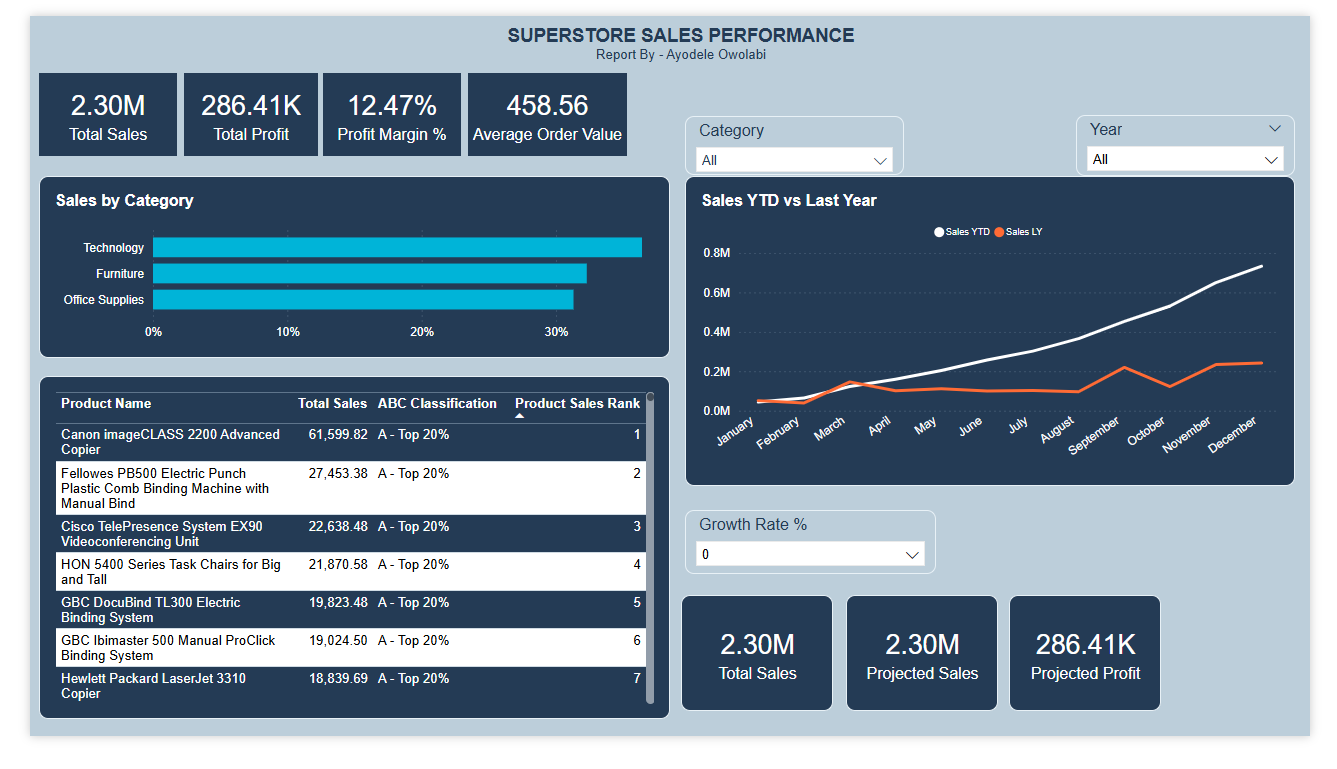

Layout of this report page (visuals, bound fields, positions):
{"tool":"powerbi","page":{"name":"Sales Overview","canvas":[1280,720],"ordinal":0},"visuals":[{"type":"textbox","box":[362,9,578,38],"z":0},{"type":"card","fields":{"Values":["_Measures.Total Sales"]},"box":[9,57,138,83],"z":1000},{"type":"card","fields":{"Values":["_Measures.Total Profit"]},"box":[154,57,134,83],"z":2000},{"type":"card","fields":{"Values":["_Measures.Profit Margin %"]},"box":[293,57,138,83],"z":3000},{"type":"card","fields":{"Values":["_Measures.Average Order Value"]},"box":[438,57,159,83],"z":4000},{"type":"clusteredBarChart","title":"Sales by Category","fields":{"Category":["Products.Category"],"Y":["_Measures.Sales % of Total"]},"box":[9,160,631,182],"z":5000},{"type":"lineChart","title":"Sales YTD vs Last Year","fields":{"Category":["Date.Month Name"],"Y":["_Measures.Sales YTD","_Measures.Sales LY"]},"box":[655,160,610,310],"z":6000},{"type":"slicer","fields":{"Values":["Date.Year"]},"box":[1046,99,219,61],"z":7000},{"type":"tableEx","fields":{"Values":["Products.Product Name","_Measures.Total Sales","_Measures.ABC Classification","_Measures.Product Sales Rank"]},"box":[9,360,631,343],"z":8000},{"type":"slicer","fields":{"Values":["Growth Rate Table.Value"]},"box":[655,494,251,64],"z":9000},{"type":"card","fields":{"Values":["_Measures.Projected Sales"]},"box":[816,579,152,116],"z":10000},{"type":"card","fields":{"Values":["_Measures.Total Sales"]},"box":[651,579,152,116],"z":11000},{"type":"card","fields":{"Values":["_Measures.Projected Profit"]},"box":[979,579,152,116],"z":12000},{"type":"slicer","fields":{"Values":["Products.Category"]},"box":[655,100,219,59],"z":13000}]}

Visuals, with their boxes in screenshot pixels (x1, y1, x2, y2), scaled from the page's 1280x720 canvas onto the 1337x769 screenshot:
textbox: (378, 10, 982, 50)
card - _Measures.Total Sales: (9, 61, 154, 150)
card - _Measures.Total Profit: (161, 61, 301, 150)
card - _Measures.Profit Margin %: (306, 61, 450, 150)
card - _Measures.Average Order Value: (458, 61, 624, 150)
"Sales by Category" clusteredBarChart: (9, 171, 668, 365)
"Sales YTD vs Last Year" lineChart: (684, 171, 1321, 502)
slicer - Date.Year: (1093, 106, 1321, 171)
tableEx - Products.Product Name x _Measures.Total Sales: (9, 384, 668, 751)
slicer - Growth Rate Table.Value: (684, 528, 946, 596)
card - _Measures.Projected Sales: (852, 618, 1011, 742)
card - _Measures.Total Sales: (680, 618, 839, 742)
card - _Measures.Projected Profit: (1023, 618, 1181, 742)
slicer - Products.Category: (684, 107, 913, 170)
